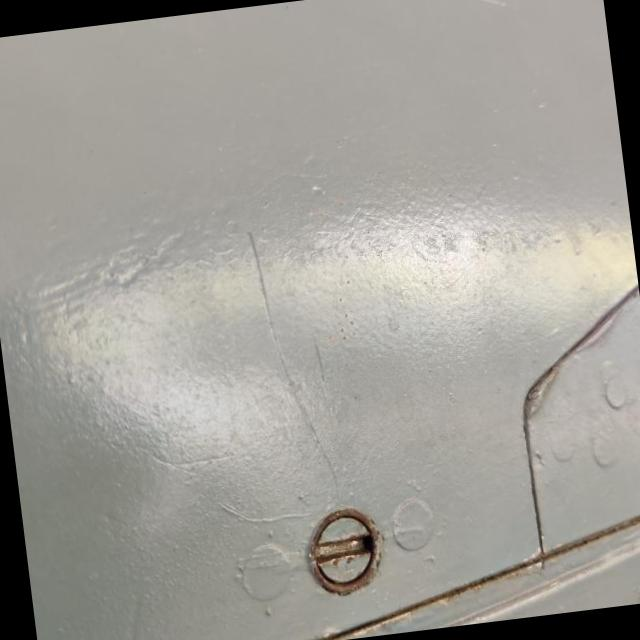Scratch: (226, 229, 341, 499)
